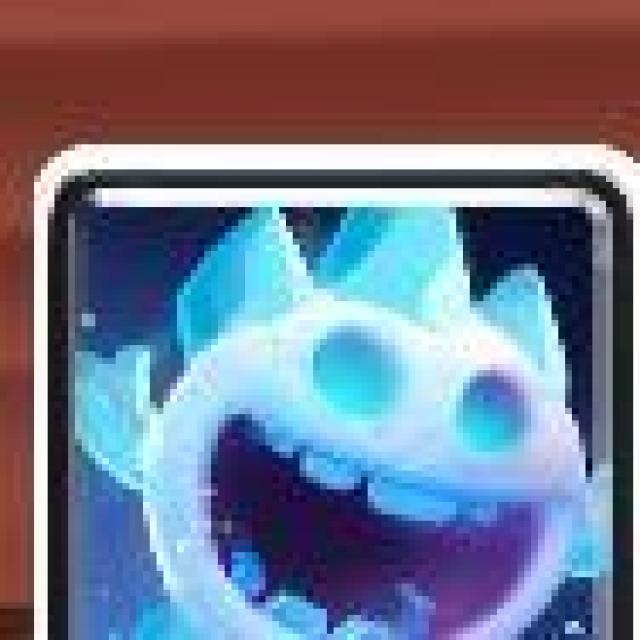Ice_Spirit: (22, 141, 640, 640)
